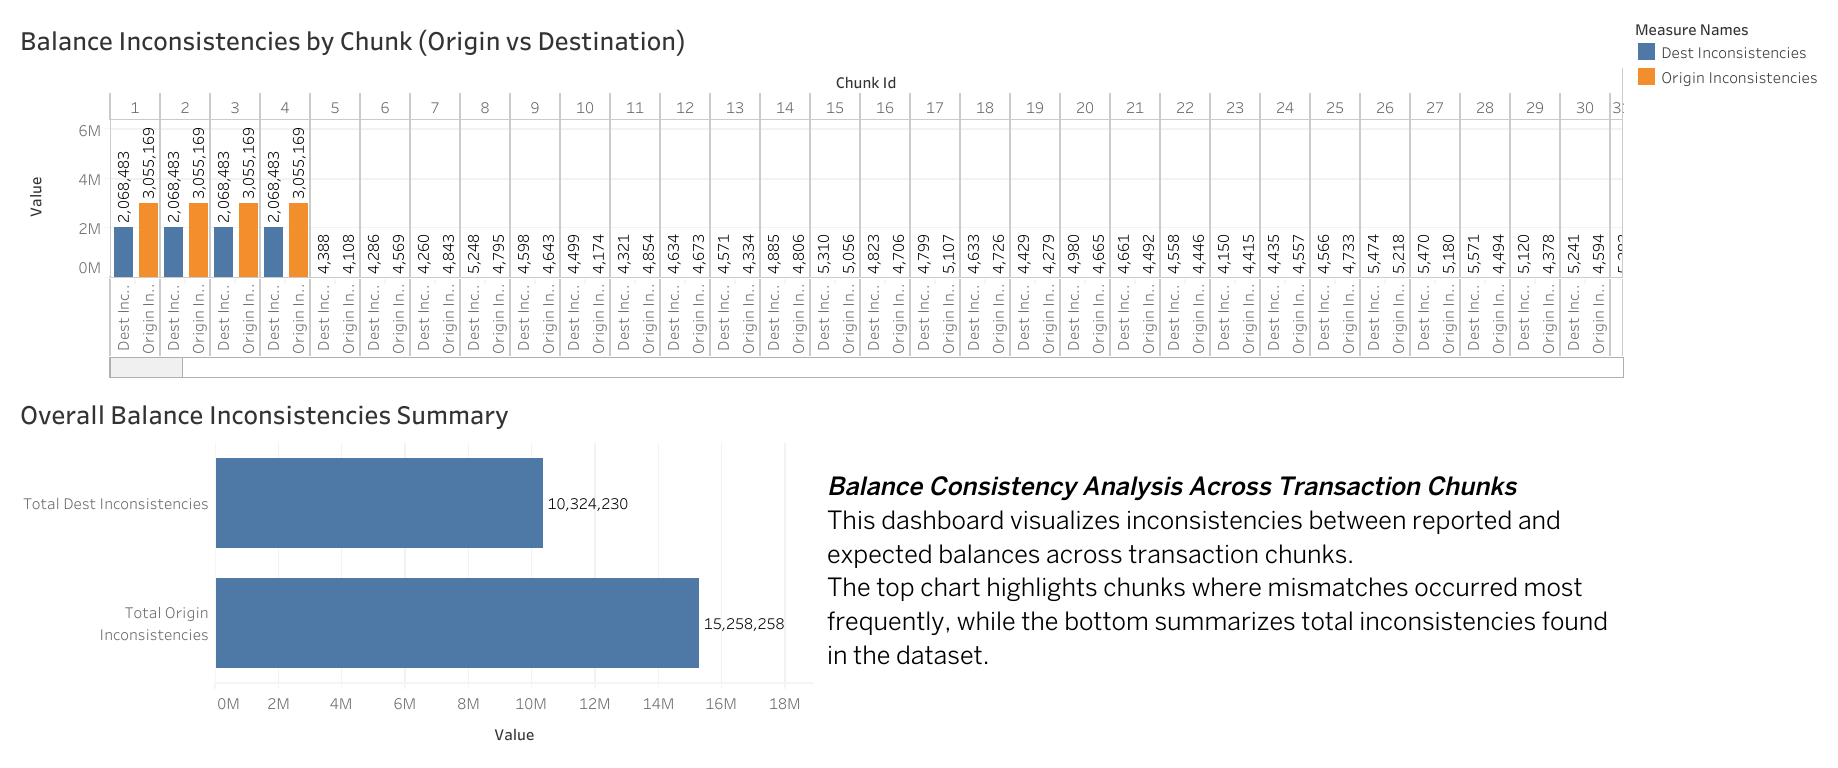

Layout of this report page (visuals, bound fields, positions):
{"tool":"tableau","page":{"name":"Data Integrity Overview","canvas":[1000,1000],"units":"permille","ordinal":0},"visuals":[{"type":"worksheet","title":"Balance Inconsistencies","mark":"Automatic","cols":["chunk_id"],"box":[4.8,10,893.8,490]},{"type":"legend","title":"Balance Inconsistencies","param":"[federated.1u99je50ax4f8l16rpeof0410zky].[:Measure Names]","box":[898.6,10,96.6,89.9]},{"type":"worksheet","title":"Total Inconsistencies Summary","mark":"Automatic","box":[4.8,500,446.9,490]},{"type":"text","box":[451.7,500,446.9,490]}]}

Visuals, with their boxes on the dashboard's canvas, which has no fixed pixel size, in thousandths of its width and height (x1, y1, x2, y2). These are canvas units, not pixel positions in the 1838x768 screenshot, which may show the page scaled, cropped or inside an application window:
"Balance Inconsistencies" worksheet: BBox(5, 10, 899, 500)
"Balance Inconsistencies" legend: BBox(899, 10, 995, 100)
"Total Inconsistencies Summary" worksheet: BBox(5, 500, 452, 990)
text: BBox(452, 500, 899, 990)
